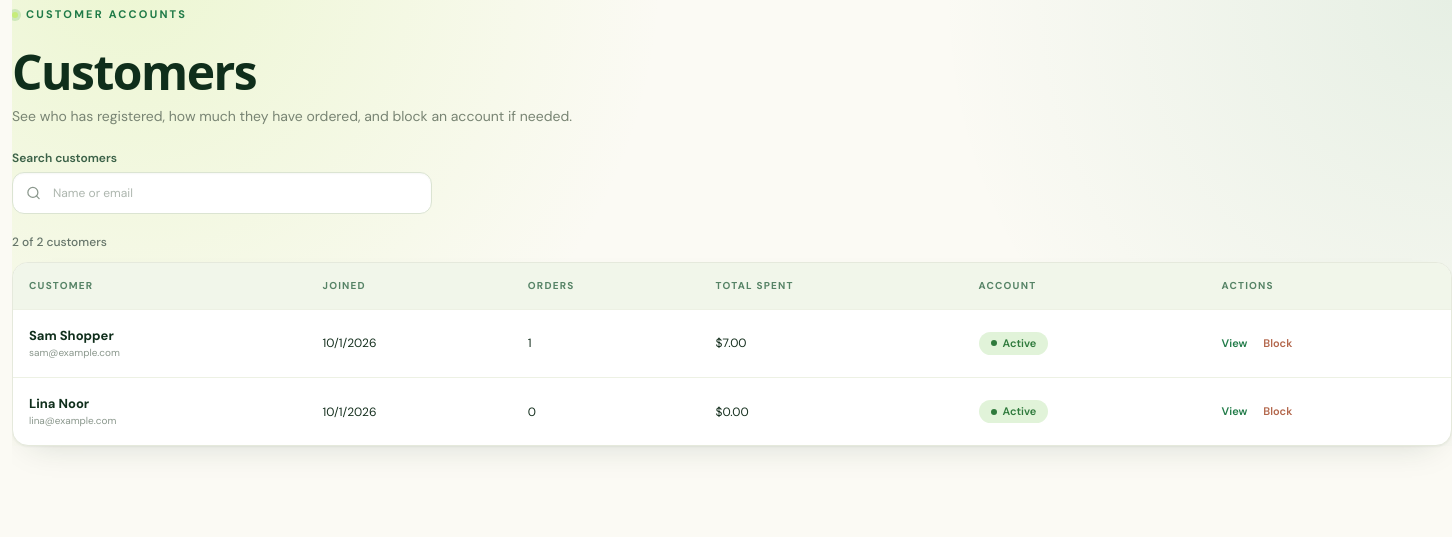
Test: Sprint 4: admin screens › customers can be blocked only after confirming, and unblocked again
Expected: the text "Sam Shopper" is shown, [29,327,114,344]
Expected: the text "$7.00" is shown, [700,309,962,378]
Click the button "Block" in the row of "Sam Shopper" at (1278, 343), box [1263,336,1292,351]
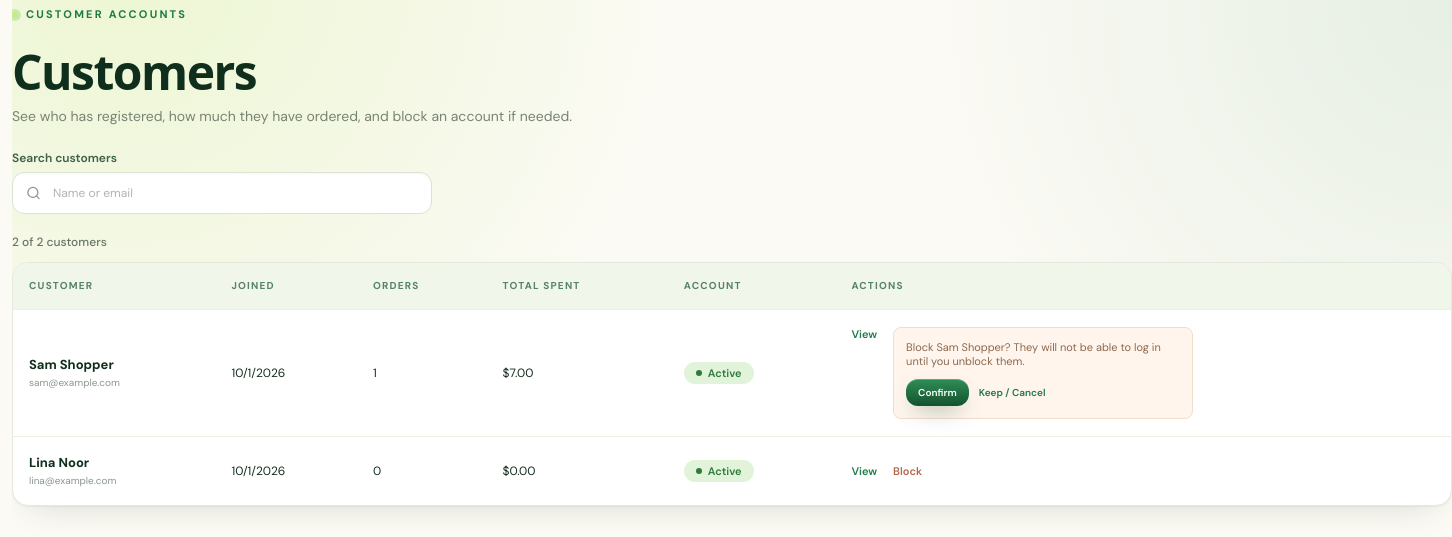
Click the button "Confirm" at (937, 393), box [906,379,969,406]
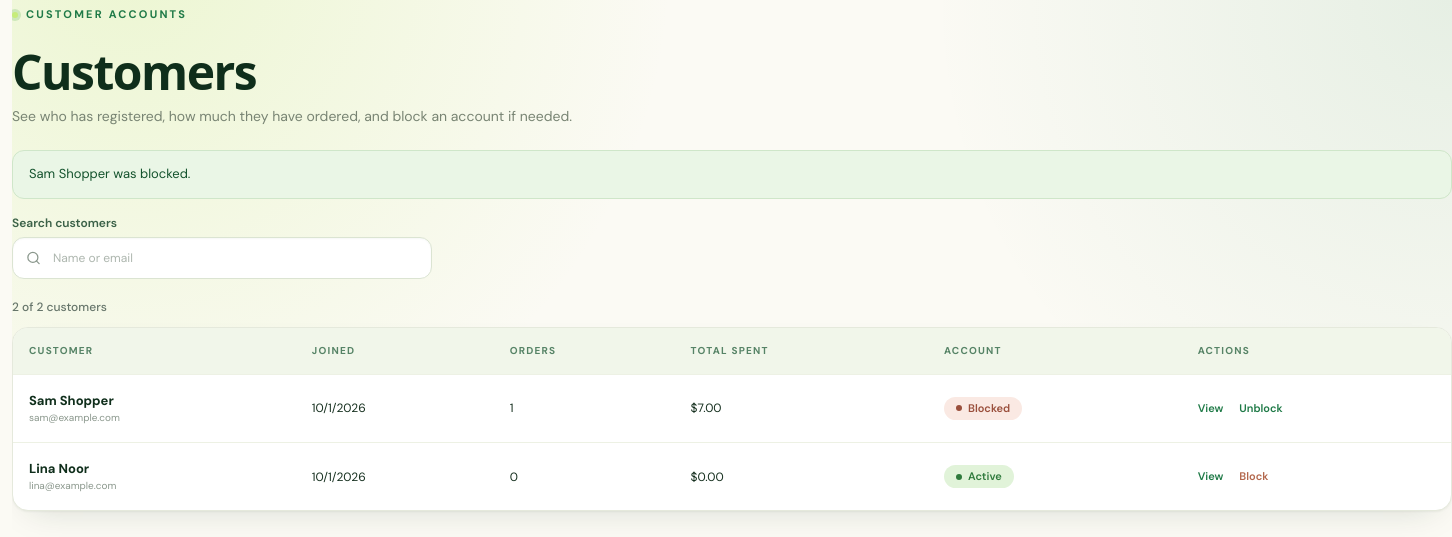
Result: the text "Sam Shopper was blocked." is shown at [12,150,1451,199]
Result: the text "Blocked" is shown at [944,397,1022,420]
Click the button "Unblock" at (1261, 408), box [1239,401,1283,416]
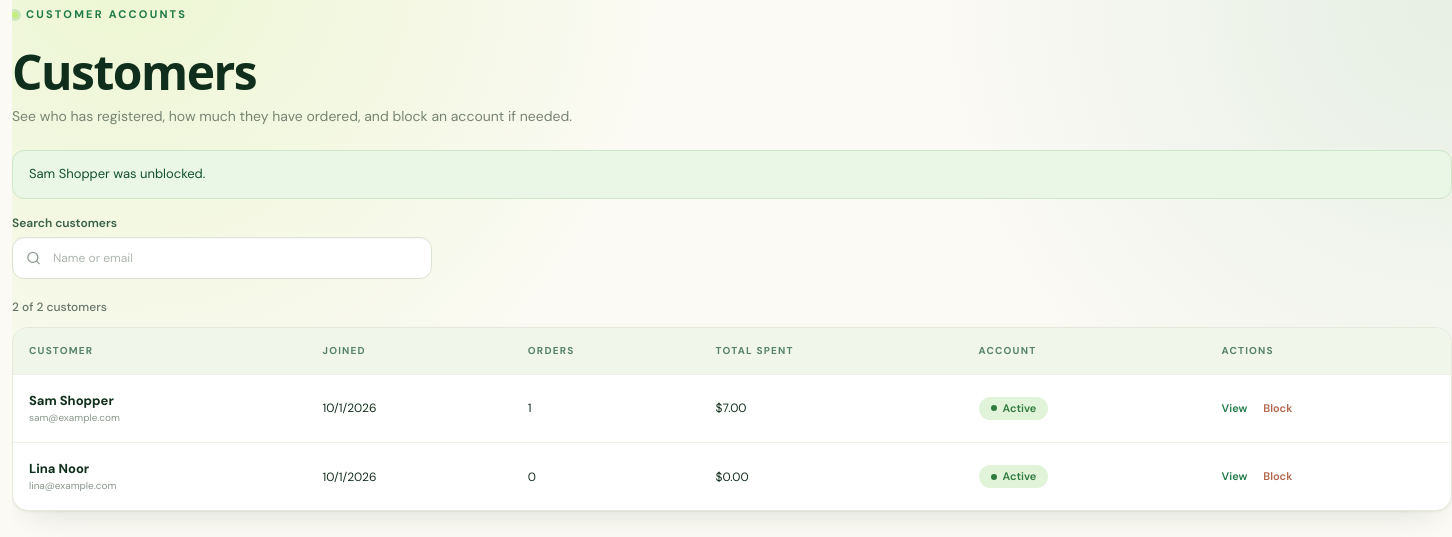
Result: the text "Sam Shopper was unblocked." is shown at [12,150,1451,199]
